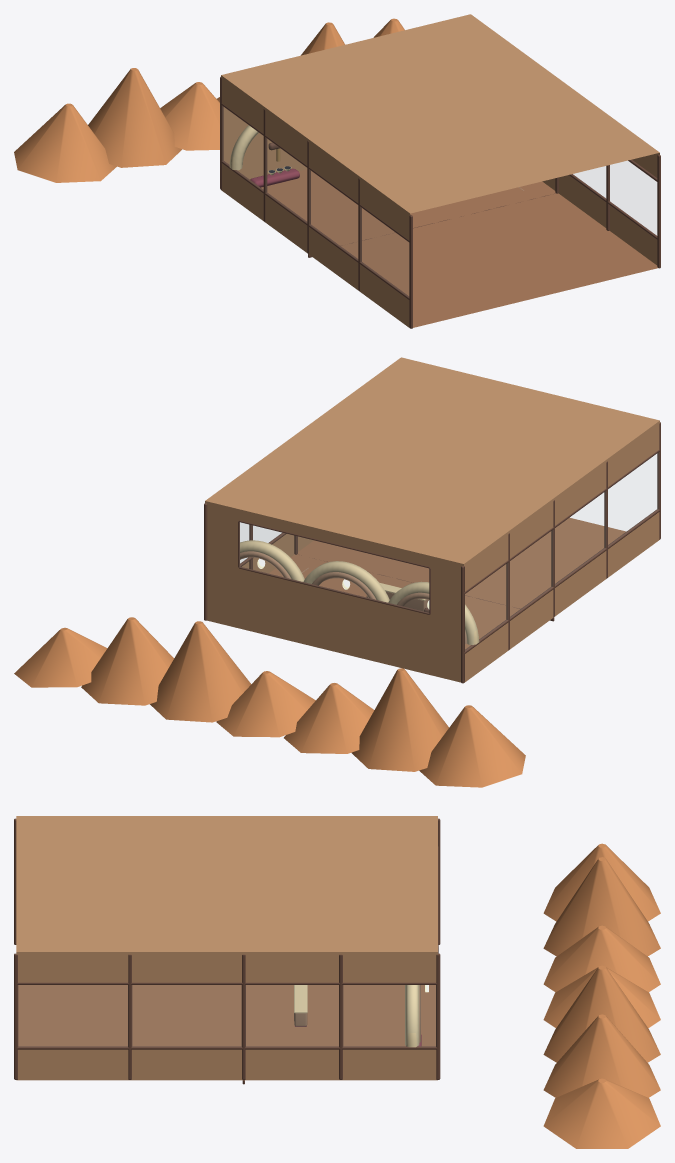
Rendered from cantina.glb.
3 renders of one model, top to bottom at view 1: azimuth 30°, elevation 25°; view 2: azimuth 150°, elevation 25°; view 3: azimuth 270°, elevation 25°, orthographic. The views are drawn at different scales.
Parts seen in each view (by area): view 1: Roof panels - Wall, Floor extension - Floor, Outside the glazing - Glass rim, Port wall - Wall, Floor - Floor, Port wall - Rib, Starboard wall - Wall, Rear bulkhead - Wall, Starboard wall - Rib, Signature architecture - Pale, Signature architecture - Soft; view 2: Roof panels - Wall, Outside the glazing - Glass rim, Rear bulkhead - Wall, Port wall - Wall, Floor extension - Floor, Port wall - Rib, Signature architecture - Pale, Floor - Floor, Rear bulkhead - Rib, Signature architecture - Secondary, Starboard wall - Rib, Starboard wall - Wall; view 3: Roof panels - Wall, Outside the glazing - Glass rim, Starboard wall - Wall, Floor extension - Floor, Floor - Floor, Starboard wall - Rib, Signature architecture - Pale, Port wall - Rib.
Part boxes in pixels (x1=…): Roof panels - Wall: x1=221, y1=14, x2=659, y2=213; Floor extension - Floor: x1=341, y1=193, x2=657, y2=327; Outside the glazing - Glass rim: x1=14, y1=18, x2=404, y2=182; Port wall - Wall: x1=221, y1=75, x2=410, y2=327; Floor - Floor: x1=261, y1=169, x2=555, y2=245; Port wall - Rib: x1=220, y1=77, x2=412, y2=328; Starboard wall - Wall: x1=542, y1=153, x2=659, y2=265; Rear bulkhead - Wall: x1=223, y1=107, x2=307, y2=179; Starboard wall - Rib: x1=555, y1=154, x2=660, y2=268; Signature architecture - Pale: x1=229, y1=125, x2=291, y2=175; Signature architecture - Soft: x1=250, y1=168, x2=299, y2=187; Roof panels - Wall: x1=205, y1=357, x2=659, y2=563; Outside the glazing - Glass rim: x1=14, y1=617, x2=525, y2=787; Rear bulkhead - Wall: x1=205, y1=501, x2=463, y2=682; Port wall - Wall: x1=464, y1=421, x2=659, y2=682; Floor extension - Floor: x1=297, y1=517, x2=626, y2=608; Port wall - Rib: x1=461, y1=422, x2=660, y2=683; Signature architecture - Pale: x1=240, y1=540, x2=479, y2=644; Floor - Floor: x1=269, y1=554, x2=519, y2=649; Rear bulkhead - Rib: x1=238, y1=520, x2=430, y2=614; Signature architecture - Secondary: x1=240, y1=551, x2=466, y2=643; Starboard wall - Rib: x1=204, y1=503, x2=297, y2=620; Starboard wall - Wall: x1=242, y1=534, x2=313, y2=573; Roof panels - Wall: x1=16, y1=816, x2=437, y2=951; Outside the glazing - Glass rim: x1=543, y1=843, x2=660, y2=1148; Starboard wall - Wall: x1=16, y1=952, x2=437, y2=1080; Floor extension - Floor: x1=18, y1=985, x2=241, y2=1046; Floor - Floor: x1=246, y1=985, x2=435, y2=1046; Starboard wall - Rib: x1=14, y1=953, x2=440, y2=1079; Signature architecture - Pale: x1=405, y1=985, x2=419, y2=1047; Port wall - Rib: x1=14, y1=818, x2=440, y2=944.
Bounding box in the file's own units: 36.79 × 9.43 × 38.64.
